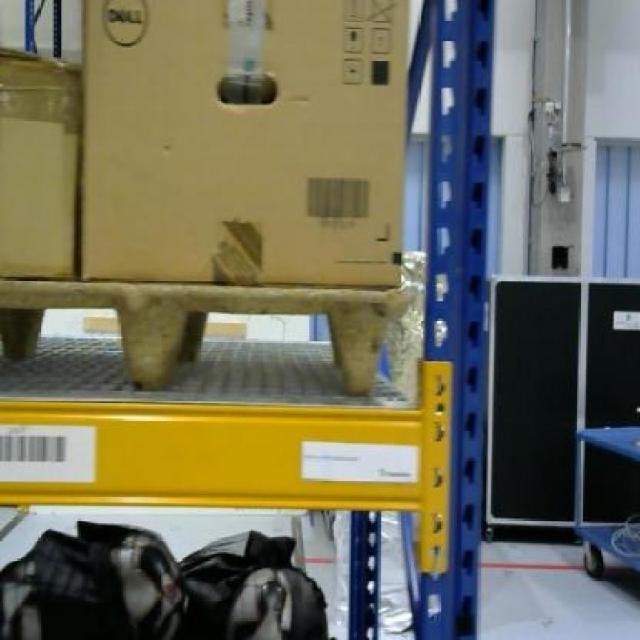box: (79, 0, 404, 285), (0, 43, 77, 282)
